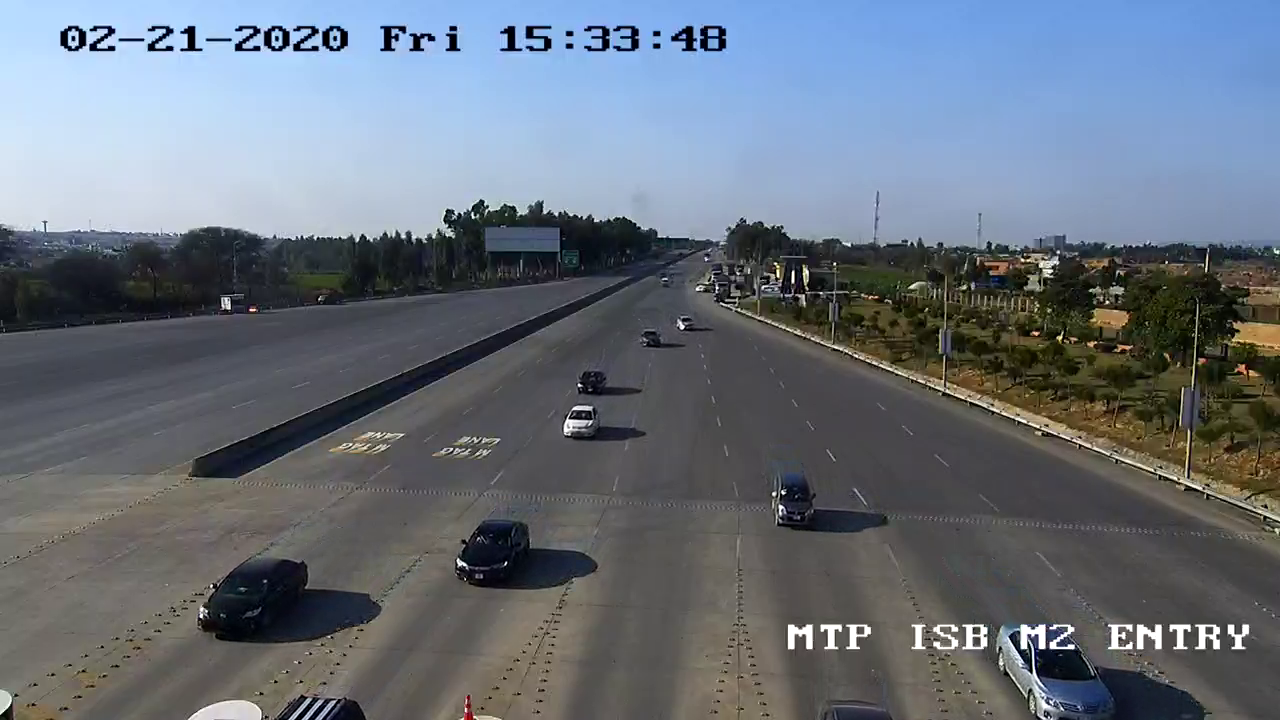f1: (189, 544, 320, 657), (450, 511, 543, 595), (765, 461, 831, 534), (552, 395, 612, 449)
